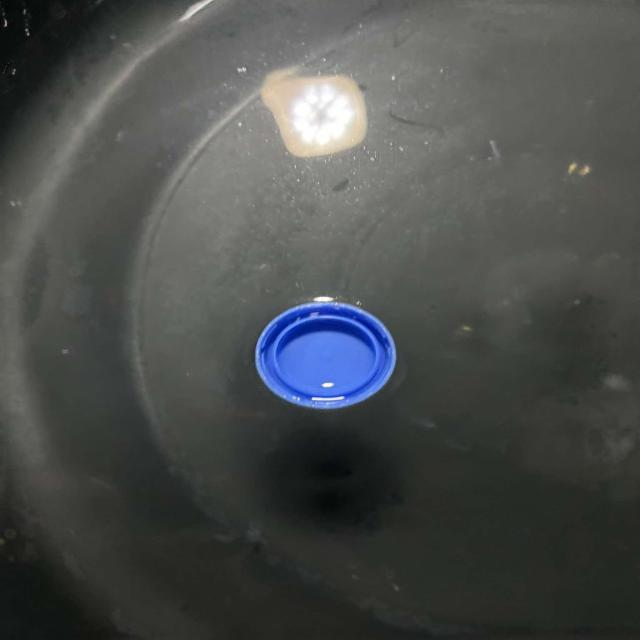Bottle Lid: (255, 298, 396, 409)
